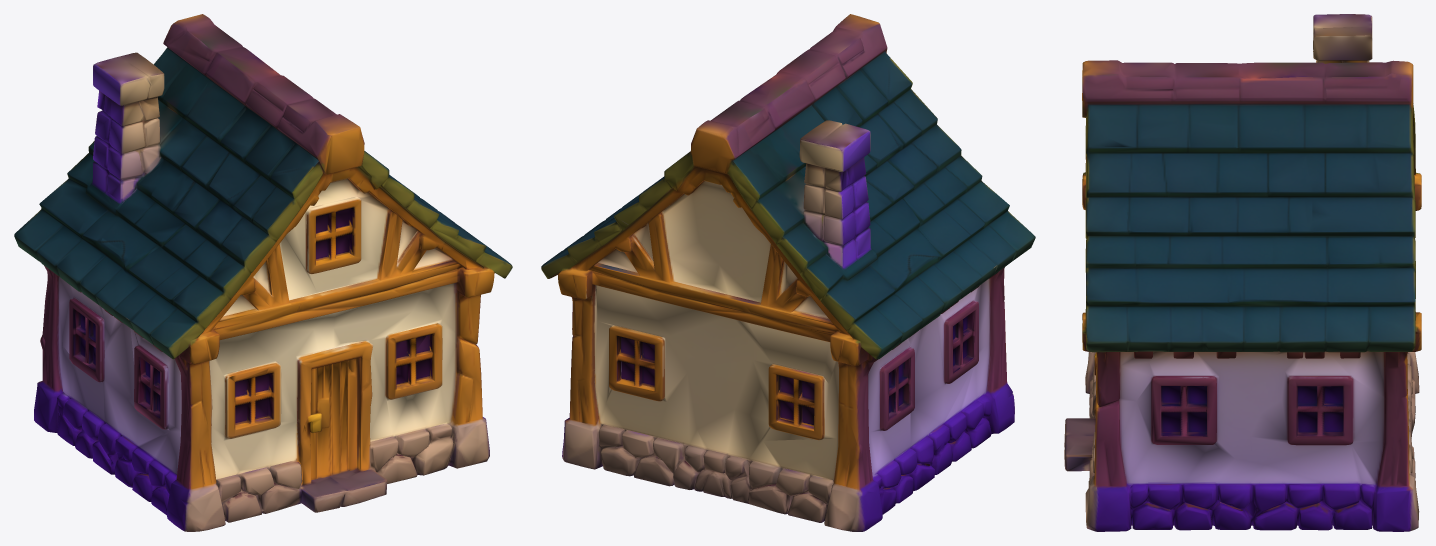
Rendered from cottage.glb.
3 views of the same model, side by side, from view 1: azimuth 30°, elevation 25°; view 2: azimuth 150°, elevation 25°; view 3: azimuth 270°, elevation 25° (orthographic). The views are drawn at different scales.
Visible parts, largest first — view 1: node_0; view 2: node_0; view 3: node_0.
Part boxes in pixels (x1,y1,x2,y2): node_0: [14, 14, 512, 531]; node_0: [541, 14, 1035, 531]; node_0: [1064, 14, 1421, 531].
Bounding box in the file's own units: 0.766 × 0.7822 × 0.6526.
Materials: 1 (1 with a texture image).
